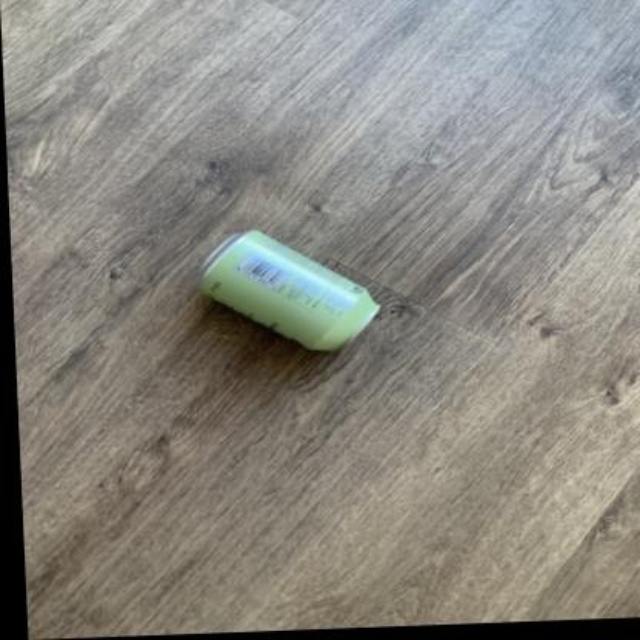trash: (198, 229, 378, 349)
